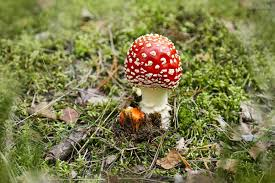Amanita muscaria: (119, 27, 187, 115)
